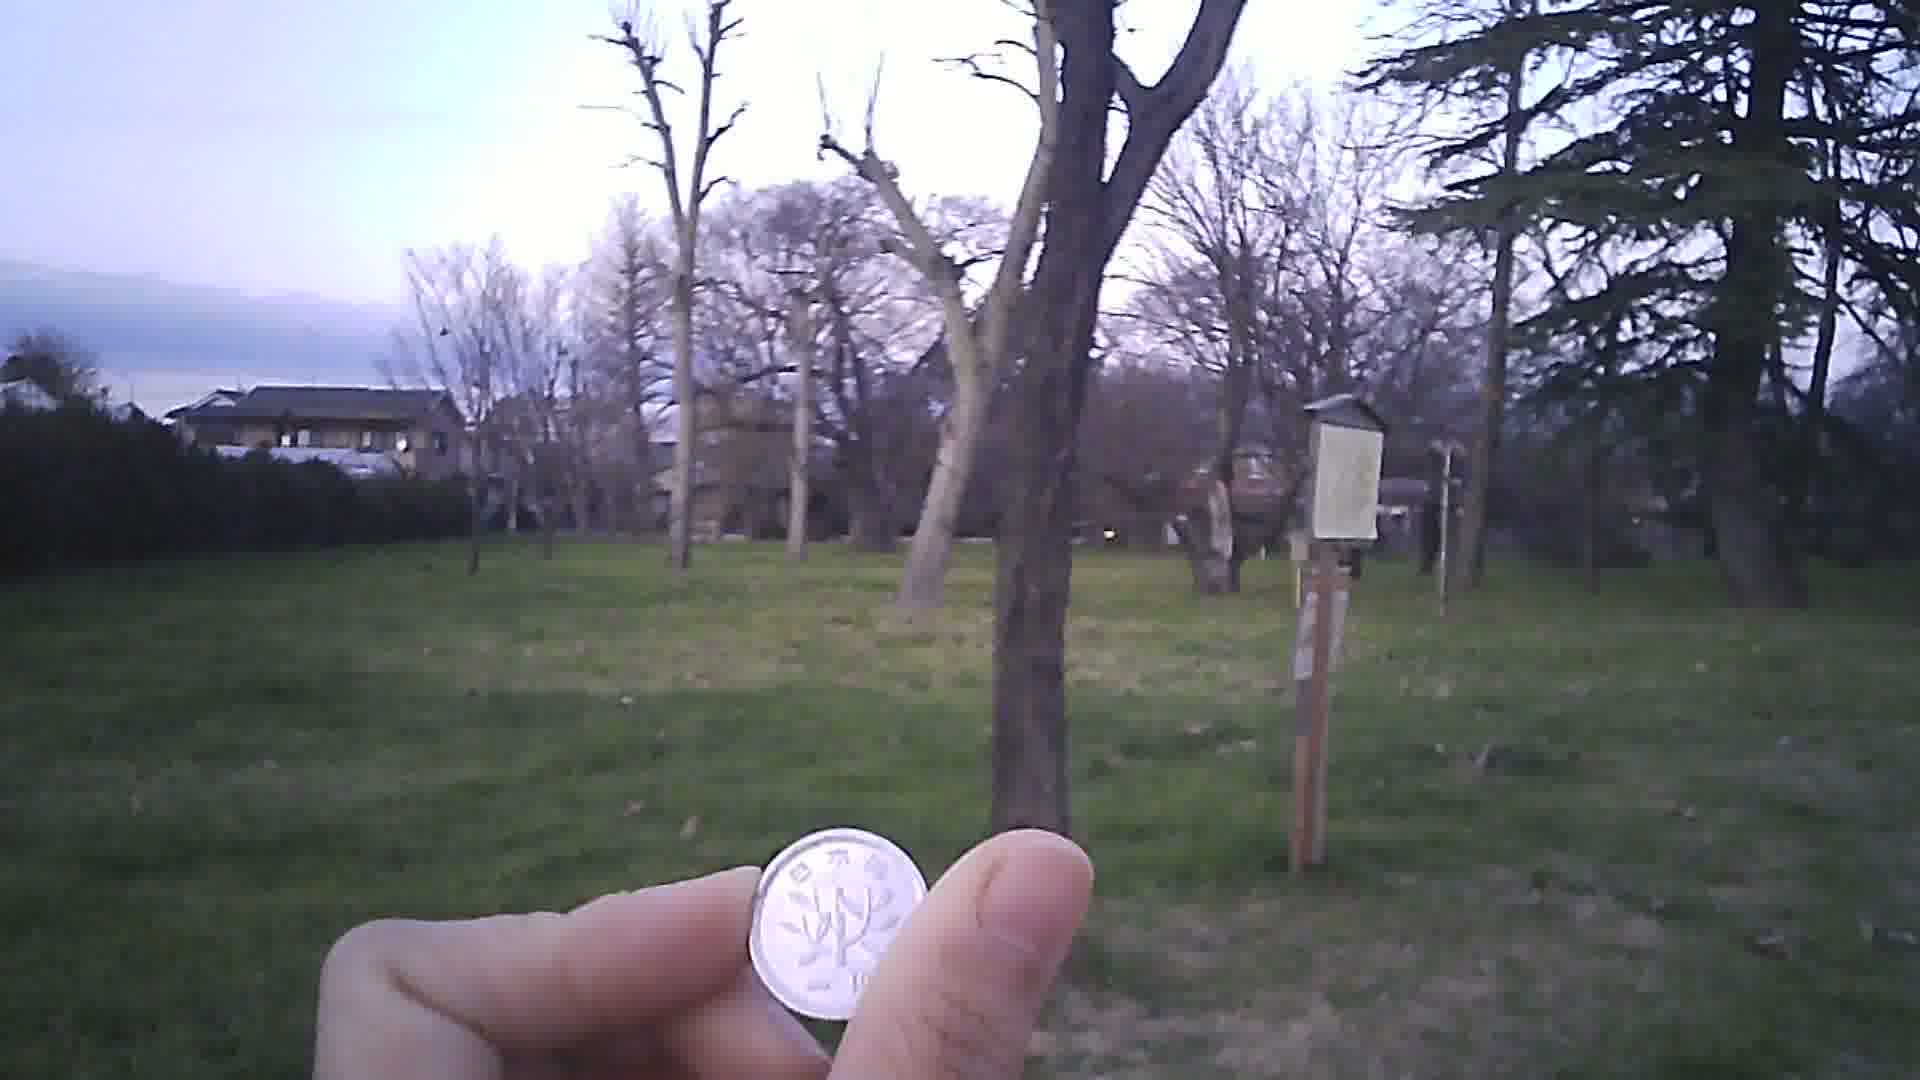1 Yen: (737, 823, 938, 1025)
